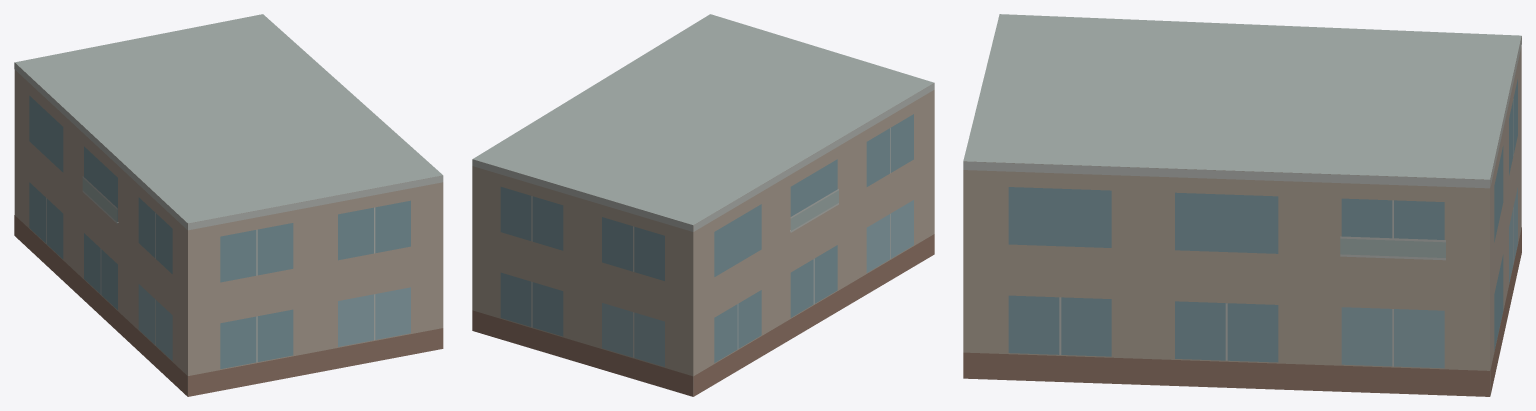
File: survey-upis-32682205.glb
The picture shows the model from 3 angles, left to right: view 1: azimuth 30°, elevation 25°; view 2: azimuth 150°, elevation 25°; view 3: azimuth 270°, elevation 25°; orthographic projection. The views are drawn at different scales.
Visible parts, largest first — view 1: survey-upis-32682205.tmp; view 2: survey-upis-32682205.tmp; view 3: survey-upis-32682205.tmp.
Boxes of the visible parts, bbox=[...] form: survey-upis-32682205.tmp: bbox=[14, 14, 443, 396]; survey-upis-32682205.tmp: bbox=[472, 14, 934, 396]; survey-upis-32682205.tmp: bbox=[963, 14, 1521, 396].
Size of the model in its own units: 9.99 by 6.1 by 14.23.
